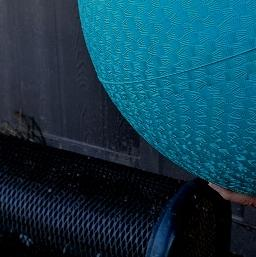algae: (76, 0, 256, 170)
